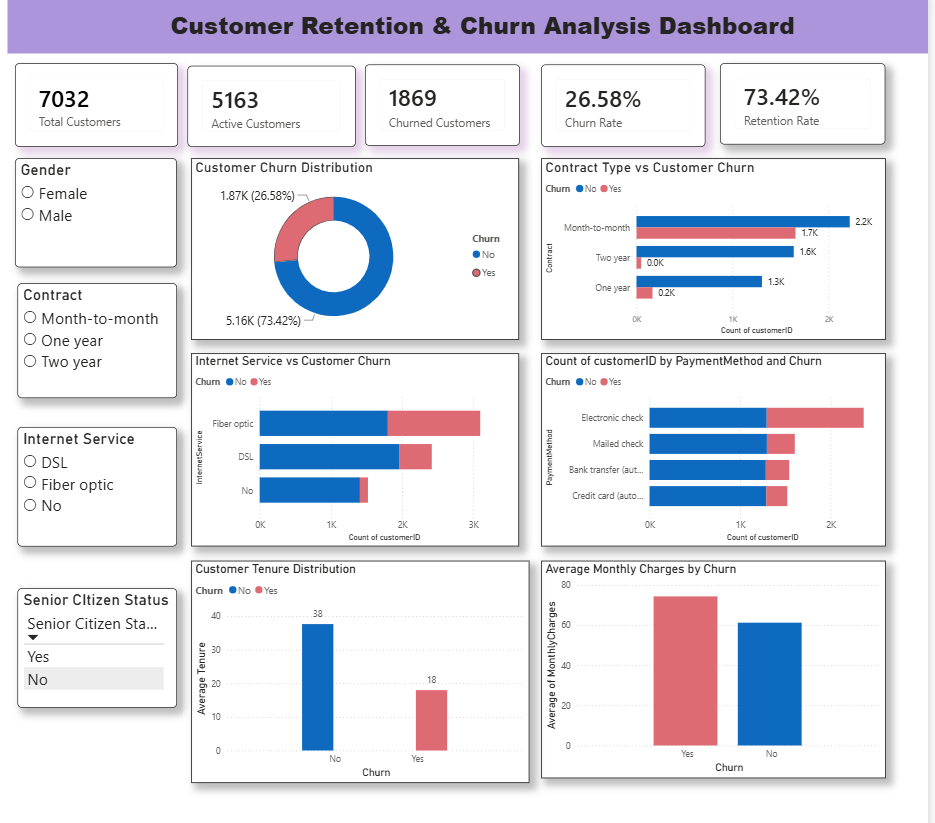

The page's visual inventory and layout, read from the dashboard file:
{"tool":"powerbi","page":{"name":"Page 1","canvas":[1280,1200],"ordinal":0},"visuals":[{"type":"textbox","box":[9.6,0,1270.7,85.1],"z":0},{"type":"cardVisual","fields":{"Data":["Table.Total Customers"]},"box":[20,98.3,225,115],"z":1000},{"type":"cardVisual","fields":{"Data":["Table.Active Customers"]},"box":[258.3,101.7,231.7,111.7],"z":2000},{"type":"cardVisual","fields":{"Data":["Table.Churned Customers"]},"box":[503.3,100,213.3,111.7],"z":3000},{"type":"cardVisual","fields":{"Data":["Table.Churn Rate"]},"box":[746.7,100,226.7,113.3],"z":4000},{"type":"donutChart","title":"Customer Churn Distribution","fields":{"Category":["Cleaned_Telco_Customer_Churn.Churn"],"Y":["CountNonNull(Cleaned_Telco_Customer_Churn.customerID)"]},"box":[263.3,230,451.7,250],"z":5000},{"type":"clusteredBarChart","title":"Contract Type vs Customer Churn","fields":{"Category":["Cleaned_Telco_Customer_Churn.Contract"],"Y":["CountNonNull(Cleaned_Telco_Customer_Churn.customerID)"],"Series":["Cleaned_Telco_Customer_Churn.Churn"]},"box":[746.7,230,475,250],"z":6000},{"type":"barChart","title":"Internet Service vs Customer Churn","fields":{"Category":["Cleaned_Telco_Customer_Churn.InternetService"],"Y":["CountNonNull(Cleaned_Telco_Customer_Churn.customerID)"],"Series":["Cleaned_Telco_Customer_Churn.Churn"]},"box":[263.3,498.3,451.7,266.7],"z":7000},{"type":"barChart","fields":{"Category":["Cleaned_Telco_Customer_Churn.PaymentMethod"],"Y":["CountNonNull(Cleaned_Telco_Customer_Churn.customerID)"],"Series":["Cleaned_Telco_Customer_Churn.Churn"]},"box":[746.7,498.3,475,266.7],"z":8000},{"type":"clusteredColumnChart","title":"Average Monthly Charges by Churn","fields":{"Category":["Cleaned_Telco_Customer_Churn.Churn"],"Y":["Avg(Cleaned_Telco_Customer_Churn.MonthlyCharges)"]},"box":[746.7,785,475,300],"z":9000},{"type":"clusteredColumnChart","title":"Customer Tenure Distribution","fields":{"Series":["Cleaned_Telco_Customer_Churn.Churn"],"Category":["Cleaned_Telco_Customer_Churn.Churn"],"Y":["Table.Average Tenure"]},"box":[263.3,785,466.7,306.7],"z":10000},{"type":"listSlicer","title":"Gender","fields":{"Values":["Cleaned_Telco_Customer_Churn.gender"]},"box":[20,230,223.3,150],"z":11000},{"type":"cardVisual","fields":{"Data":["Cleaned_Telco_Customer_Churn.Retention Rate"]},"box":[993.3,98.3,228.3,111.7],"z":12000},{"type":"listSlicer","fields":{"Values":["Cleaned_Telco_Customer_Churn.Contract"]},"box":[23.3,401.7,220,158.3],"z":13000},{"type":"listSlicer","title":"Internet Service","fields":{"Values":["Cleaned_Telco_Customer_Churn.InternetService"]},"box":[23.3,600,220,165],"z":14000},{"type":"tableEx","title":"Senior CItizen Status","fields":{"Values":["Cleaned_Telco_Customer_Churn.Senior Citizen Status"]},"box":[25,821.7,220,165],"z":15000}]}

Visuals, with their boxes in screenshot pixels (x1, y1, x2, y2):
textbox: x1=5, y1=0, x2=928, y2=38
cardVisual - Table.Total Customers: x1=12, y1=47, x2=176, y2=131
cardVisual - Table.Active Customers: x1=185, y1=50, x2=354, y2=131
cardVisual - Table.Churned Customers: x1=363, y1=48, x2=519, y2=130
cardVisual - Table.Churn Rate: x1=540, y1=48, x2=705, y2=131
"Customer Churn Distribution" donutChart: x1=189, y1=143, x2=517, y2=325
"Contract Type vs Customer Churn" clusteredBarChart: x1=540, y1=143, x2=886, y2=325
"Internet Service vs Customer Churn" barChart: x1=189, y1=338, x2=517, y2=532
barChart - Cleaned_Telco_Customer_Churn.PaymentMethod x CountNonNull(Cleaned_Telco_Customer_Churn.customerID): x1=540, y1=338, x2=886, y2=532
"Average Monthly Charges by Churn" clusteredColumnChart: x1=540, y1=546, x2=886, y2=764
"Customer Tenure Distribution" clusteredColumnChart: x1=189, y1=546, x2=528, y2=769
"Gender" listSlicer: x1=12, y1=143, x2=174, y2=252
cardVisual - Cleaned_Telco_Customer_Churn.Retention Rate: x1=720, y1=47, x2=886, y2=128
listSlicer - Cleaned_Telco_Customer_Churn.Contract: x1=15, y1=268, x2=174, y2=383
"Internet Service" listSlicer: x1=15, y1=412, x2=174, y2=532
"Senior CItizen Status" tableEx: x1=16, y1=573, x2=176, y2=693
